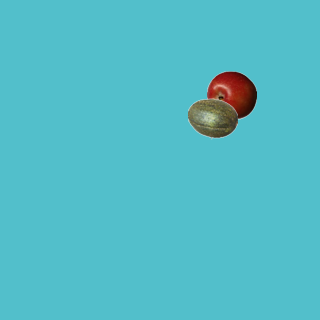Apple Braeburn: (206, 70, 256, 120)
Melon Piel de Sapo: (187, 93, 237, 143)
